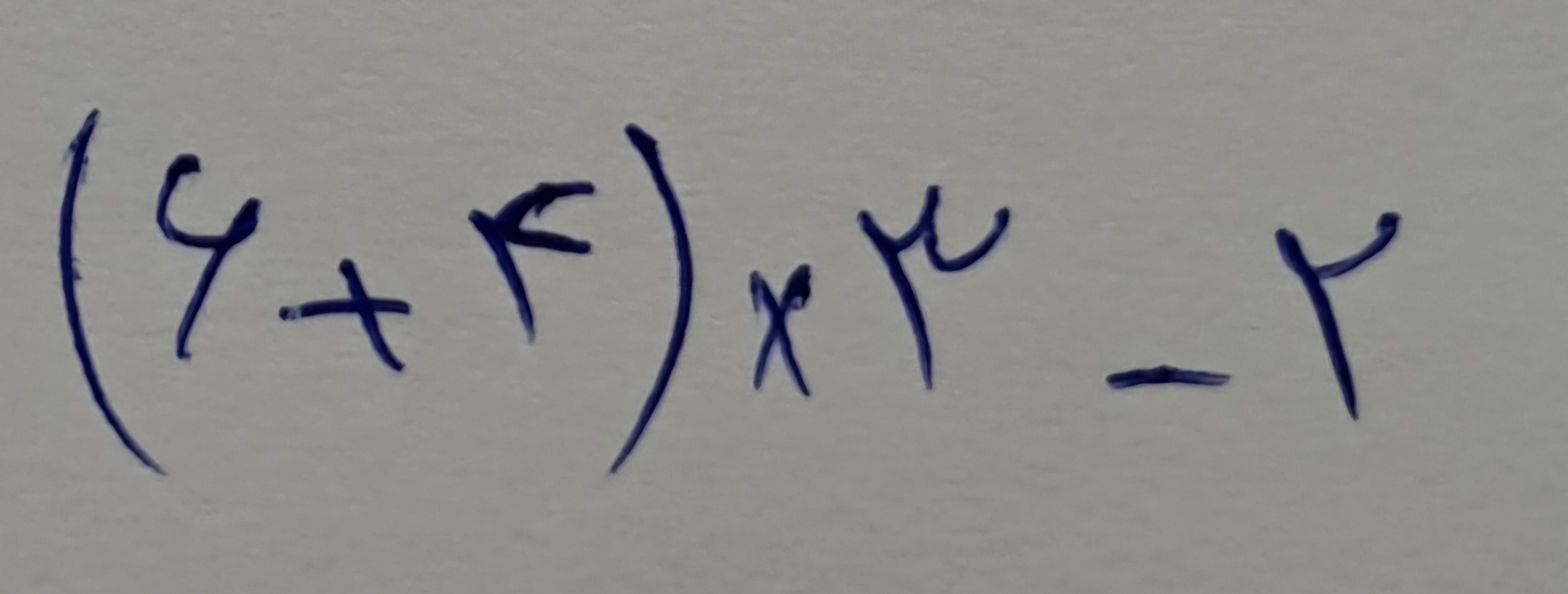character: (60, 107, 169, 470), (858, 182, 1012, 389), (613, 129, 696, 469), (1278, 212, 1404, 407), (153, 150, 259, 361), (468, 180, 603, 341), (276, 260, 410, 371), (744, 265, 814, 395), (1107, 364, 1230, 391)
